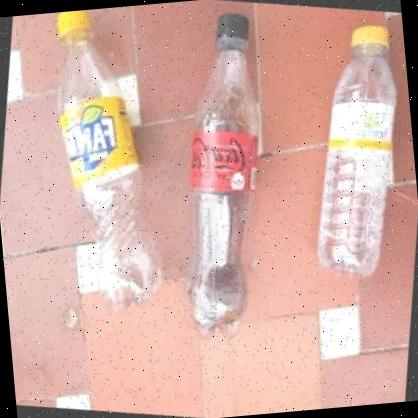bottle: (162, 12, 280, 347), (48, 6, 166, 313), (299, 23, 416, 282)
cap: (216, 14, 252, 50), (54, 10, 93, 41), (350, 24, 390, 52)
label: (60, 94, 142, 192), (185, 124, 264, 200), (326, 98, 396, 159)
